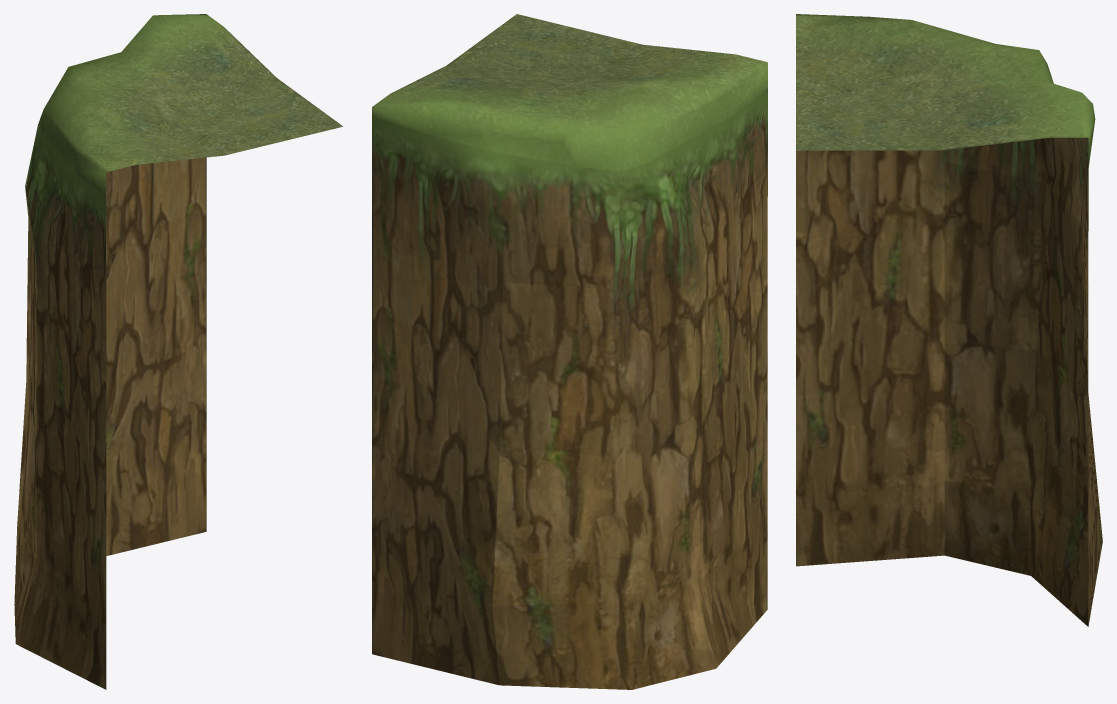
Rendered from GroundEdgeCorner.FBX.
3 views of the same model, side by side, from view 1: azimuth 30°, elevation 25°; view 2: azimuth 150°, elevation 25°; view 3: azimuth 270°, elevation 25° (orthographic). The views are drawn at different scales.
Parts seen in each view (by area): view 1: Plane002; view 2: Plane002; view 3: Plane002.
Part boxes in pixels (x1=…): Plane002: x1=14, y1=14, x2=342, y2=689; Plane002: x1=372, y1=14, x2=767, y2=689; Plane002: x1=796, y1=14, x2=1102, y2=626.
Bounding box in the file's own units: 211 × 203 × 415.
1 material, 1 textured.
